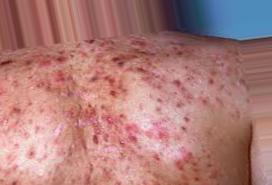Acne: (32, 95, 136, 170), (155, 43, 242, 117), (57, 40, 137, 99)
